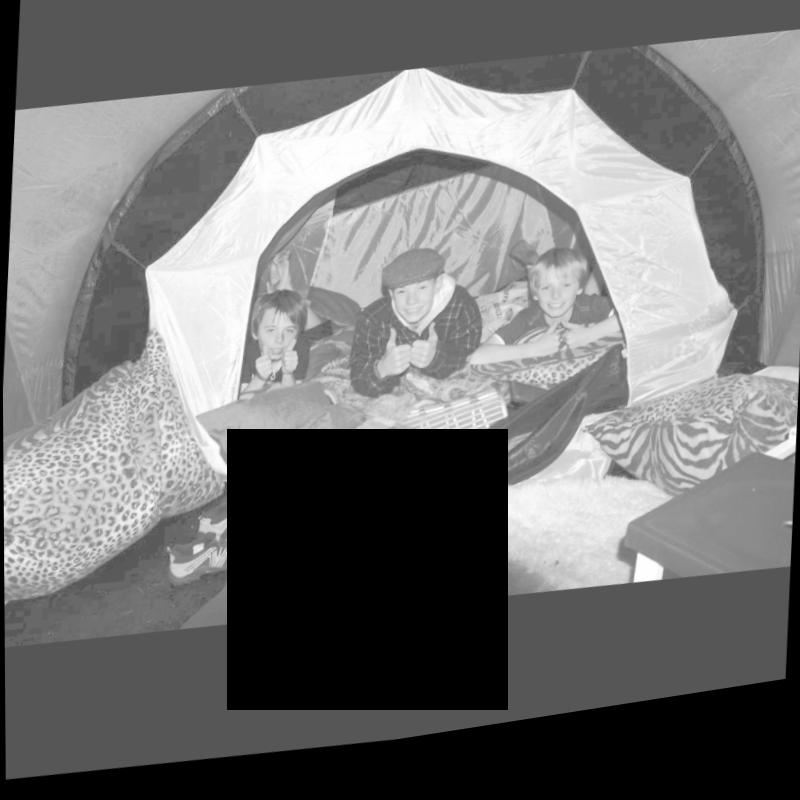pillow: (183, 368, 440, 547), (580, 380, 799, 535)
